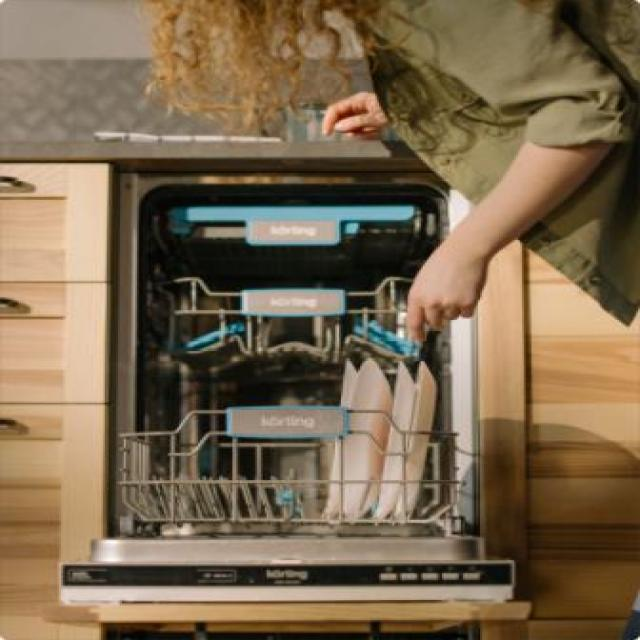dishwasher: (57, 164, 539, 632)
